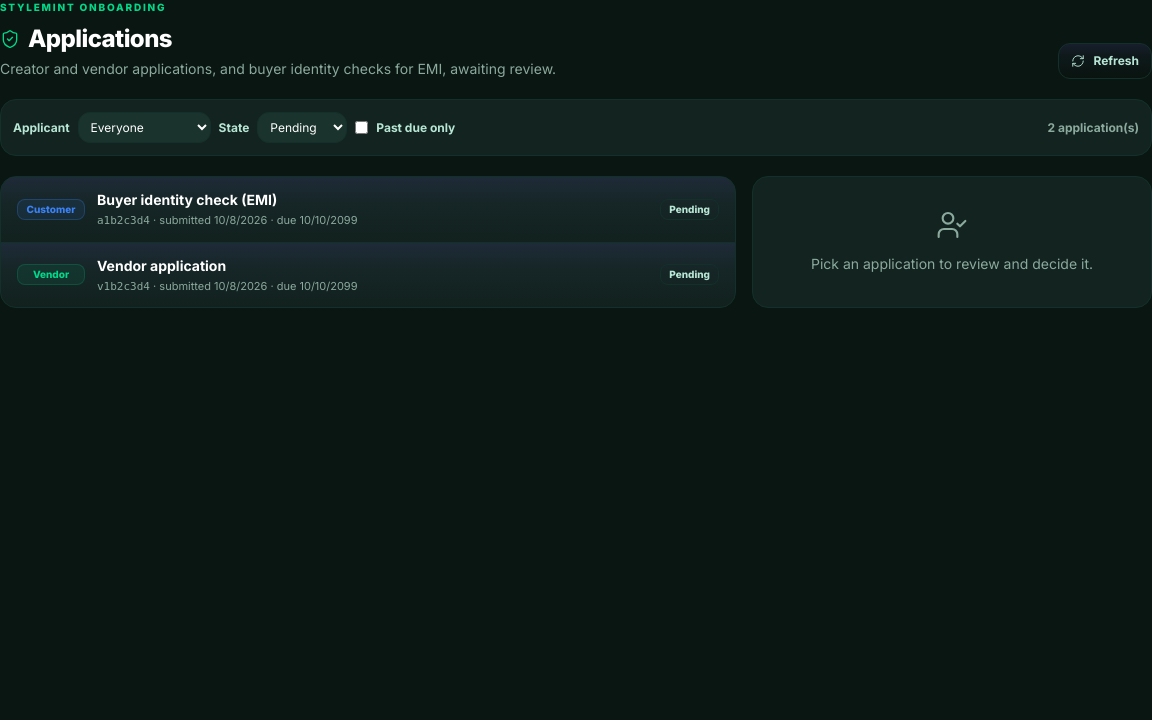
KycReviewPage — buyer identity checks › shows who the buyer claims to be, with the ID number masked to its last four
The width and height of the screenshot is (1152, 720).
Click the text "Buyer identity check (EMI)". click: (187, 200)
box: [97, 191, 277, 208]
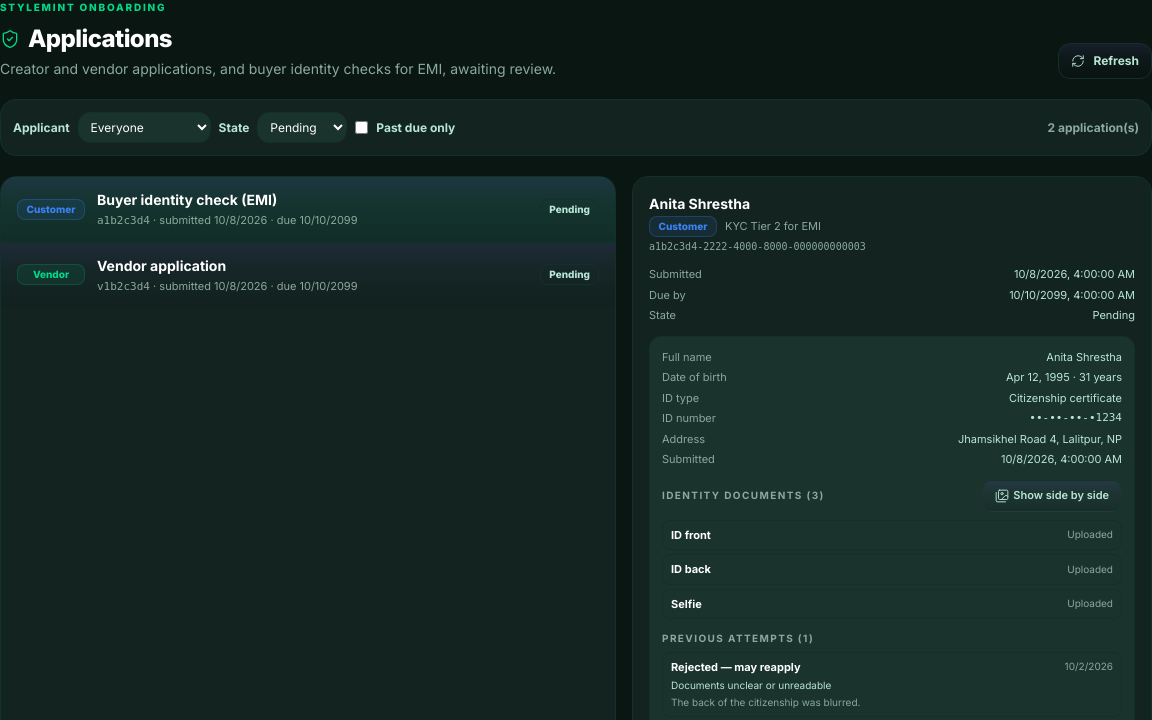
Result: the text "Anita Shrestha" is shown 2 times at [649, 195, 750, 212]; [1046, 349, 1122, 365]
Result: the text "Apr 12, 1995 · 31 years" is shown at [1006, 369, 1122, 386]
Result: the text "Citizenship certificate" is shown at [1009, 390, 1122, 406]
